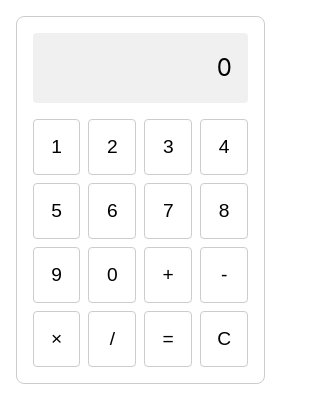
Test: Calculator › appends digits correctly
Click the button "1": click(57, 147) [33,119,80,175]
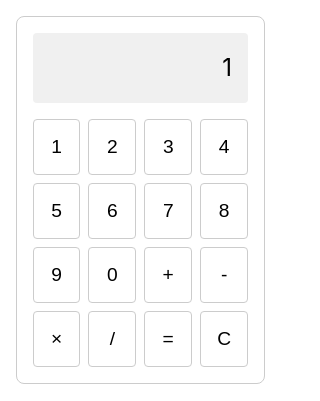
Click the button "2": click(112, 147) [88,119,136,175]
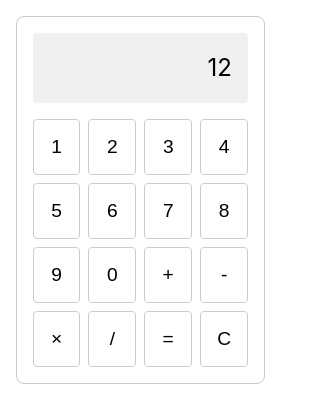
Result: the text with class "display" reads "12" at [208,53,232,82]
